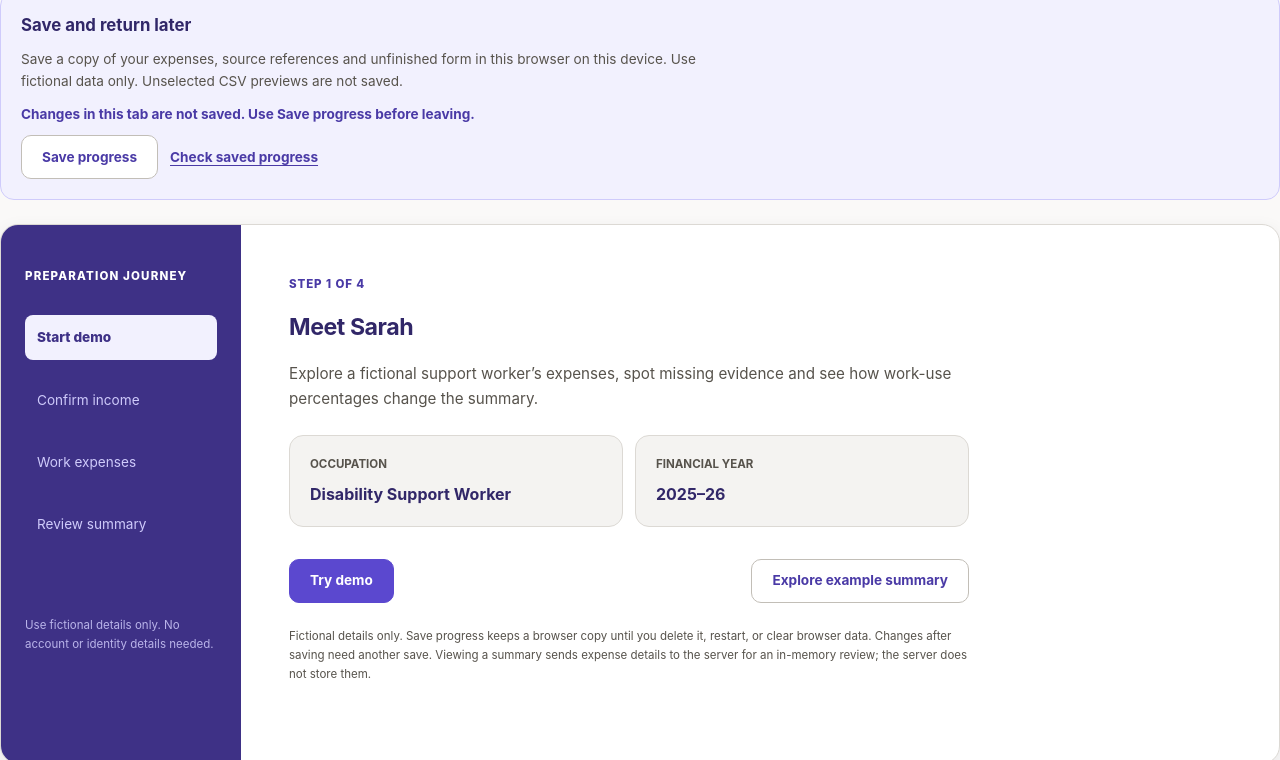
it: changes evidence and reimbursement without approving uncertain amounts
This screenshot has width=1280, height=760.
Step 1. Click the button "Explore example summary" → (860, 580), box [752,558,969,602]
(page scrolled)
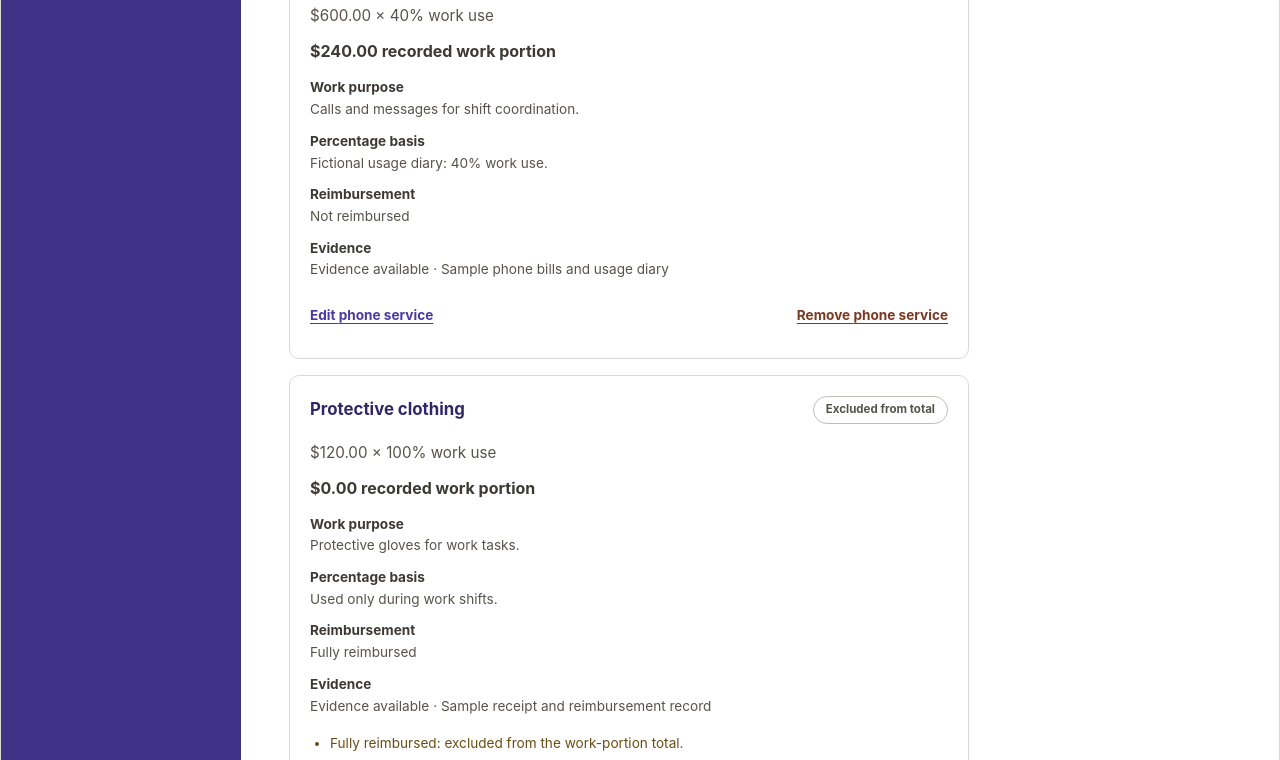
Step 2. Click the button "Edit phone service" → (372, 316), box [310,294,433,338]
(page scrolled)
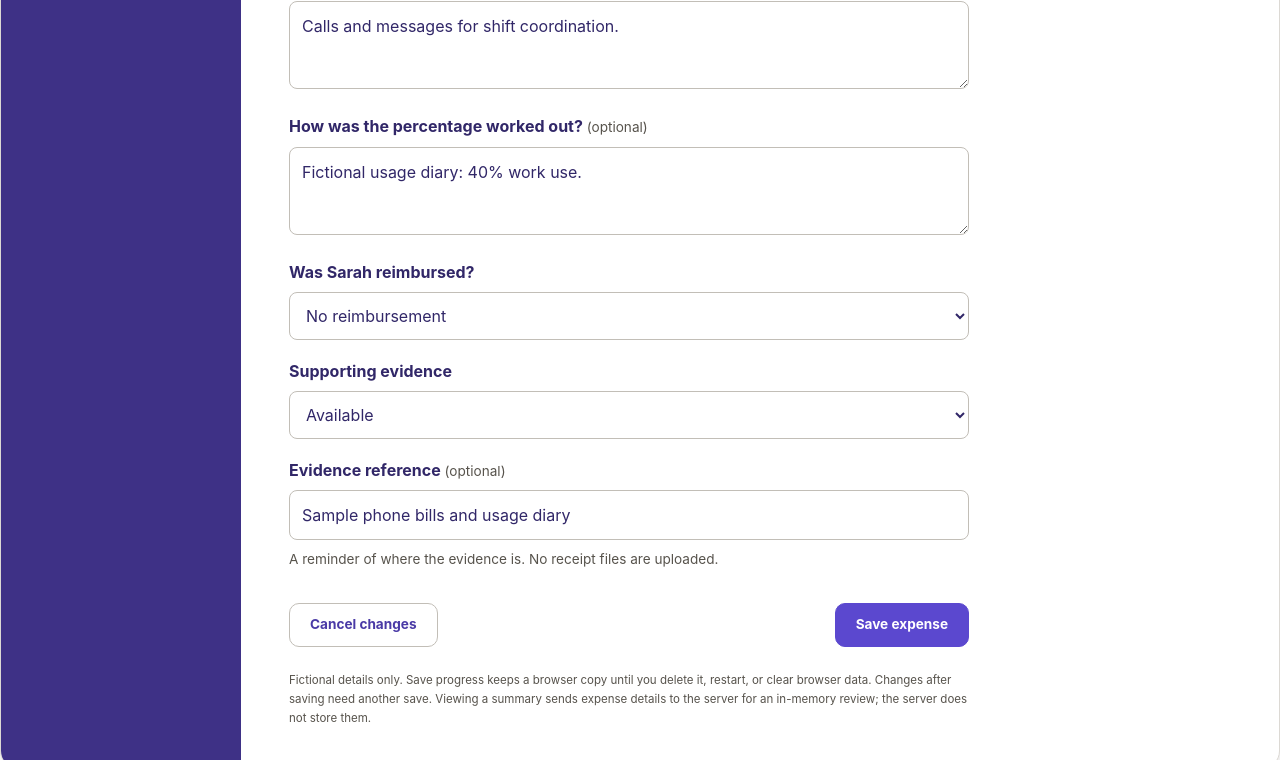
Step 3. Select "Partly reimbursed / not sure" in the dropdown labelled "Was Sarah reimbursed?" → (629, 316), box [289,292,969,340]
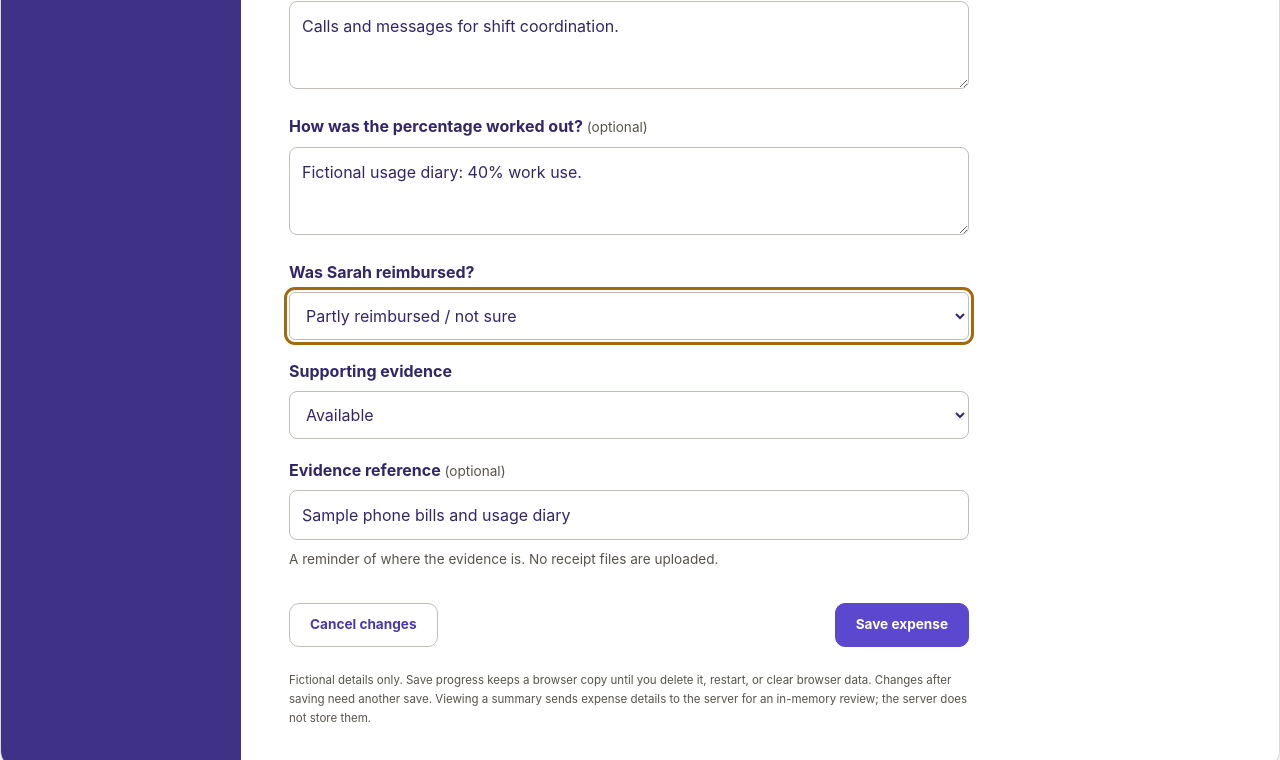
Step 4. Select "Missing" in the dropdown labelled "Supporting evidence" → (629, 415), box [289,391,969,439]
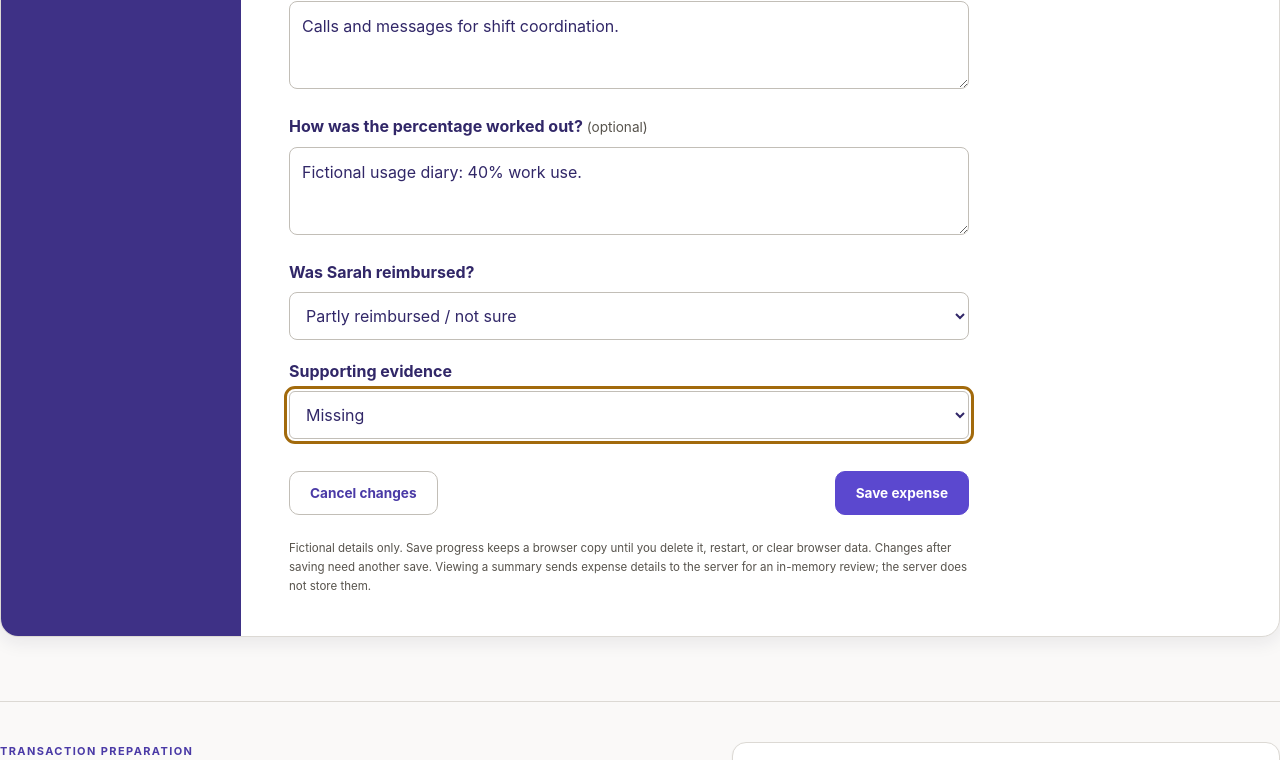
Step 5. Click the button "Save expense" → (902, 493), box [835,471,969,515]
(page scrolled)
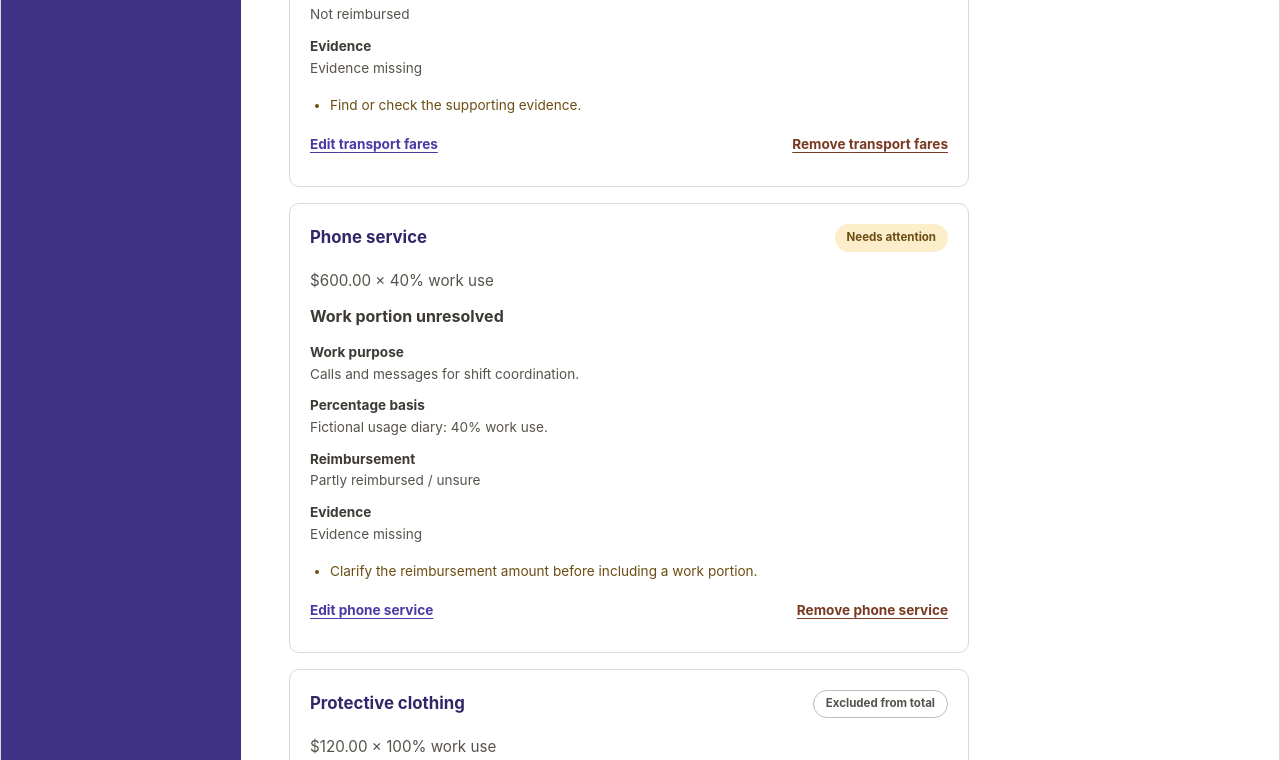
Now the text "Work portion unresolved" is shown, box [310,306,504,326]
